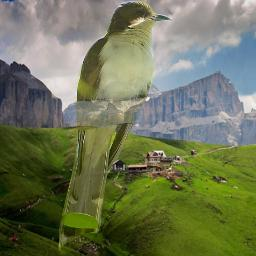Cuckoo: (58, 1, 172, 255)
